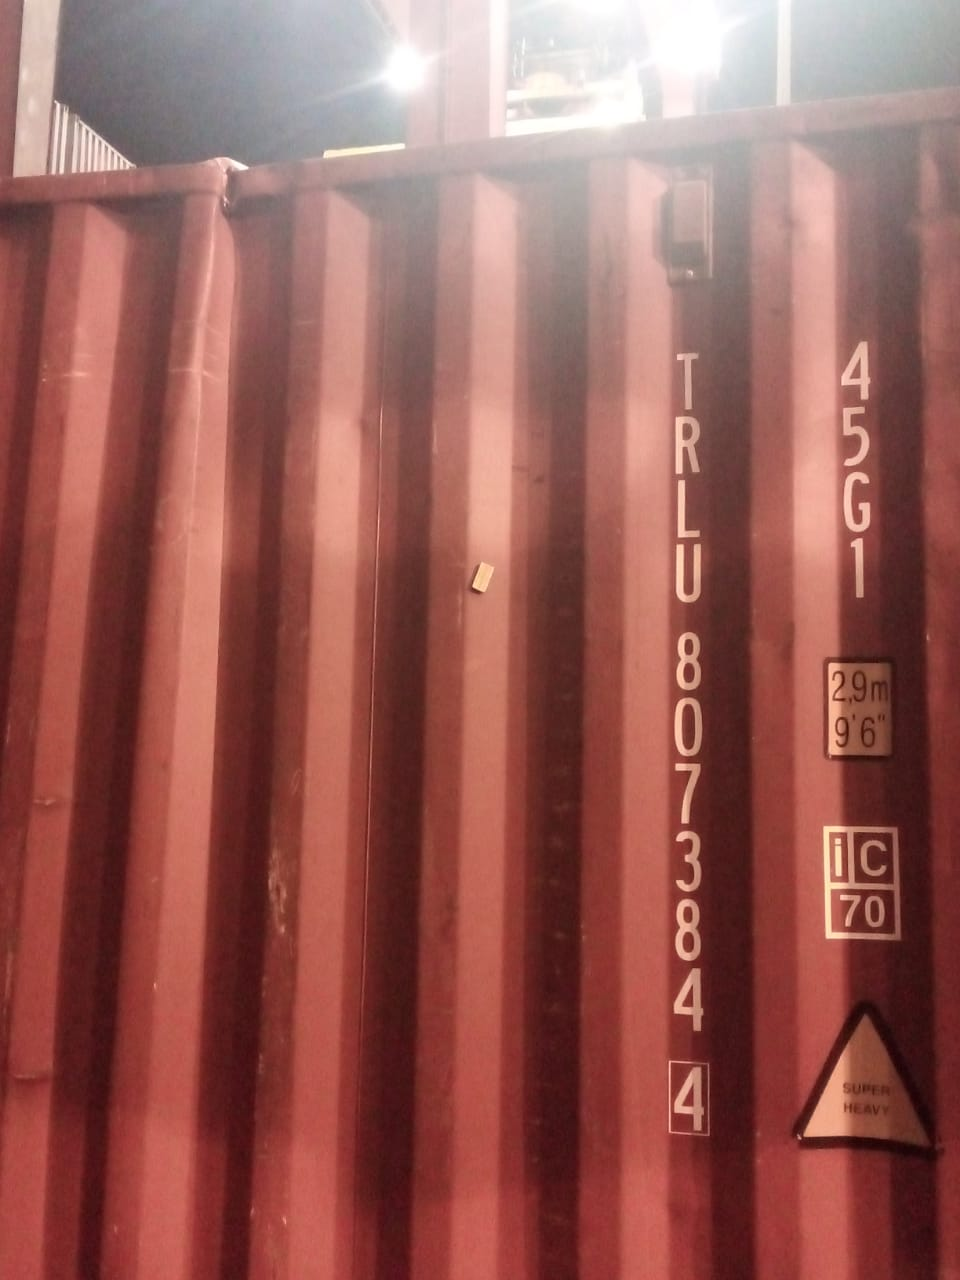dented: (144, 161, 310, 238)
